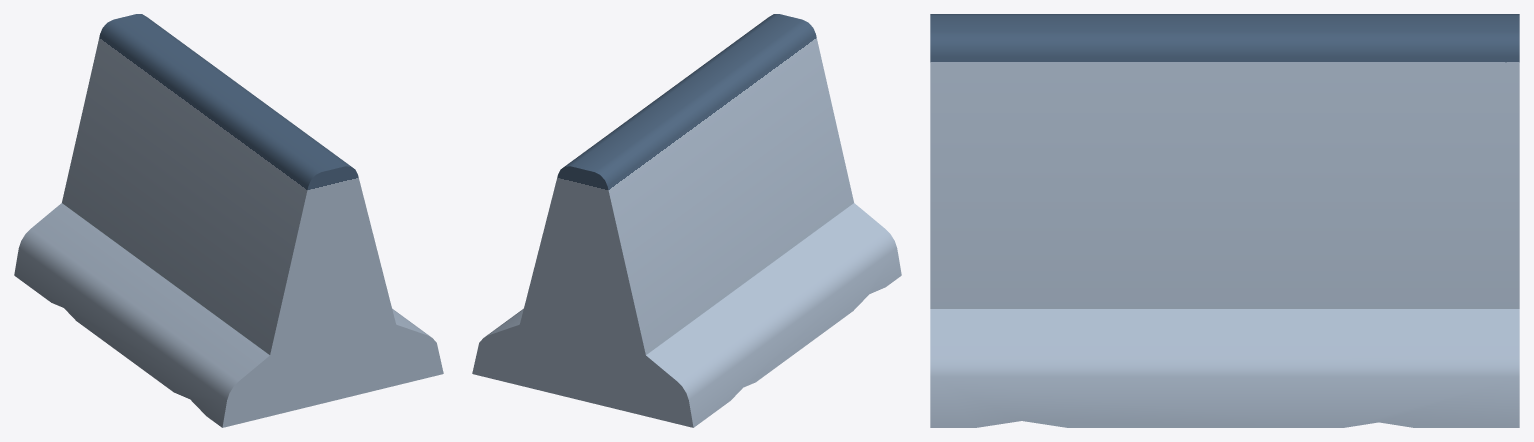
Rendered from Barrera_03.fbx.
3 renders of one model, left to right at view 1: azimuth 30°, elevation 25°; view 2: azimuth 150°, elevation 25°; view 3: azimuth 270°, elevation 25°, orthographic. The views are drawn at different scales.
Parts seen in each view (by area): view 1: Barrera_03; view 2: Barrera_03; view 3: Barrera_03.
Part boxes in pixels (left/top/right/bottom): Barrera_03: left=14, top=14, right=443, bottom=427; Barrera_03: left=472, top=14, right=901, bottom=427; Barrera_03: left=930, top=14, right=1519, bottom=427.
Size of the model in its own units: 200 by 200 by 326.
